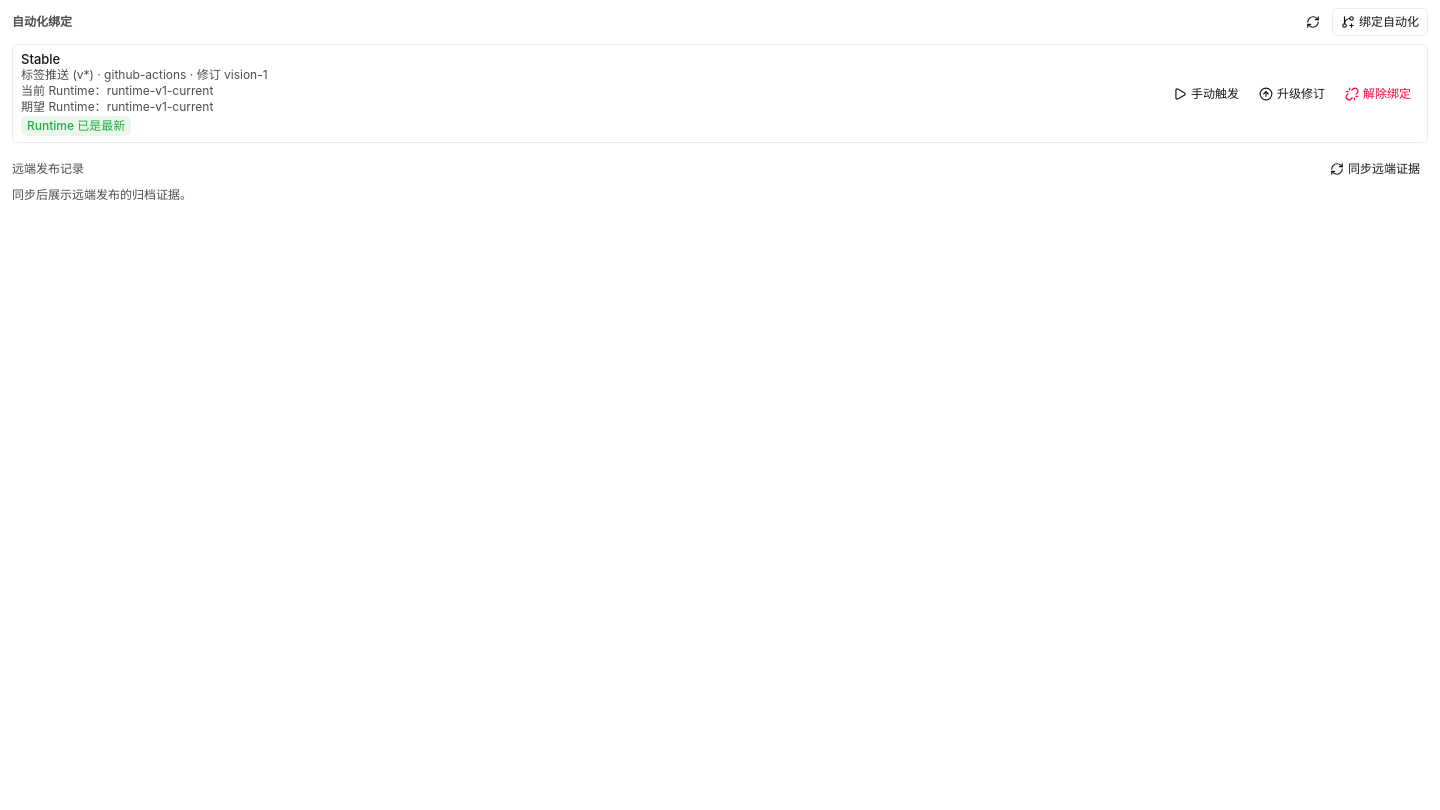
Test: AutomationBindingsSection › previews detach without applying it implicitly
The width and height of the screenshot is (1440, 810).
expect the list item with test id "automation-binding-binding-1" is shown: met, box [12,44,1428,143]
Click the button "解除绑定": (1378, 94) [1337,80,1419,108]
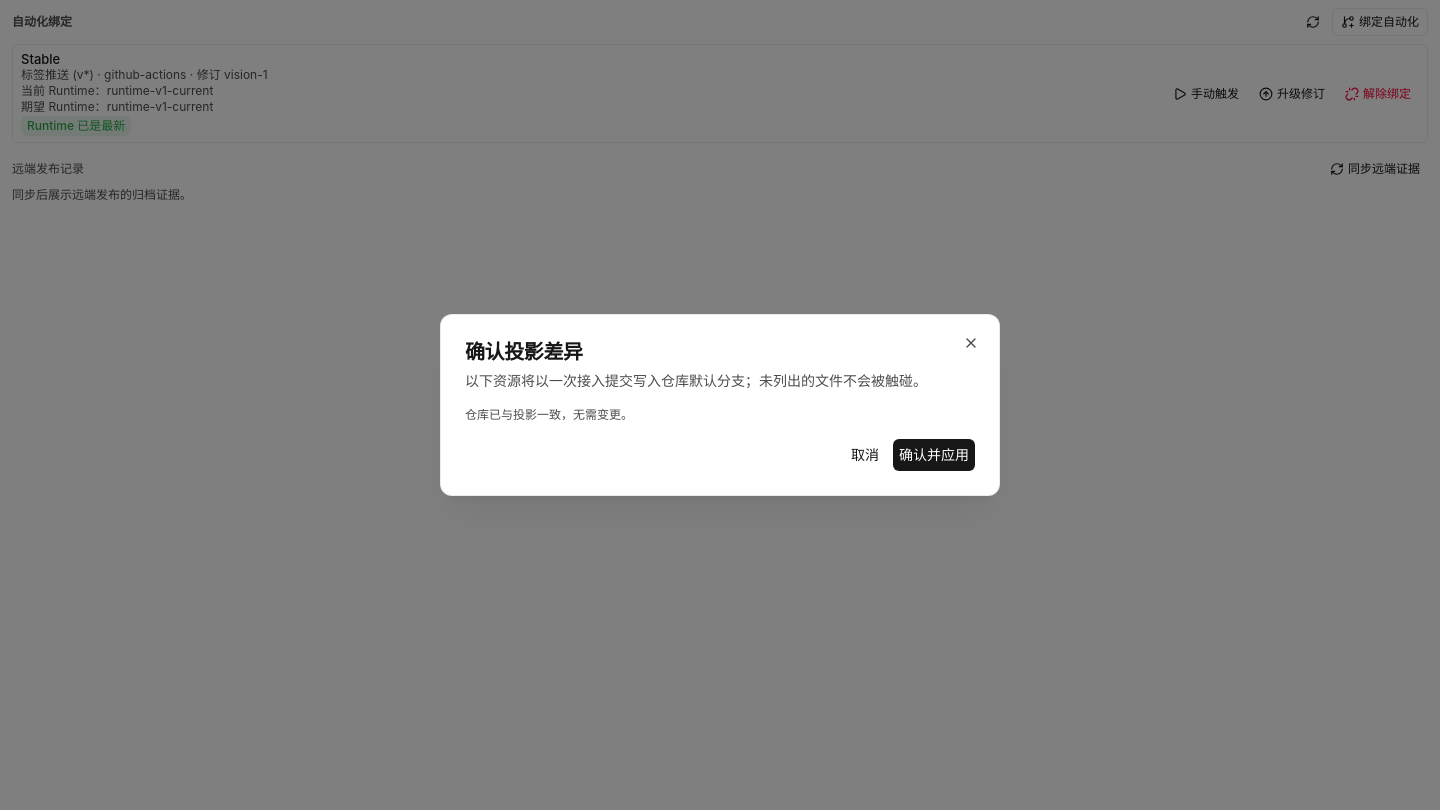
expect the text "仓库已与投影一致，无需变更。" is shown: met, box [465,407,633,422]
